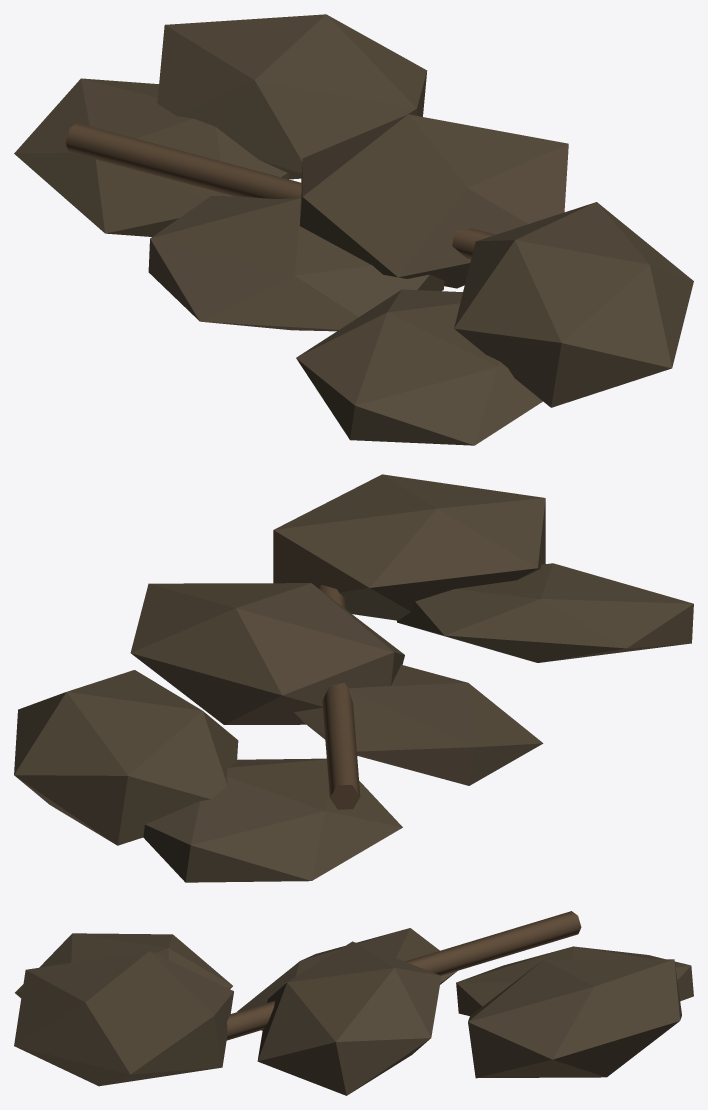
Rendered from eroded-verge.glb.
The picture shows the model from 3 angles, top to bottom: view 1: azimuth 30°, elevation 25°; view 2: azimuth 150°, elevation 25°; view 3: azimuth 270°, elevation 25°; orthographic projection. The views are drawn at different scales.
Visible parts, largest first — view 1: eroded-verge; view 2: eroded-verge; view 3: eroded-verge.
Boxes of the visible parts, x1,y1,x2,y2 form: eroded-verge: [14, 14, 693, 445]; eroded-verge: [14, 474, 693, 882]; eroded-verge: [14, 911, 693, 1095].
Size of the model in its own units: 1.01 by 0.3438 by 1.96.
